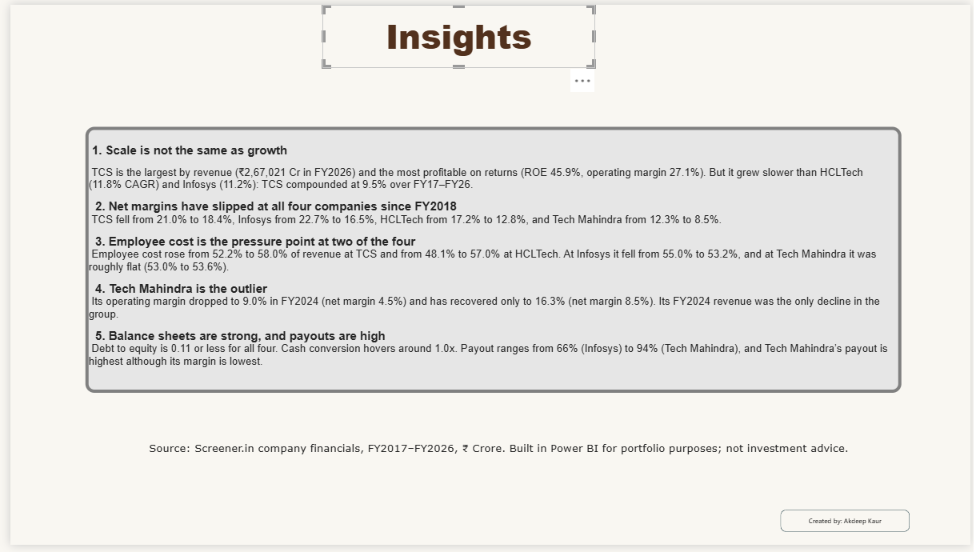

The dashboard page shown, as its layout file describes it:
{"tool":"powerbi","page":{"name":"Insights","canvas":[1920,1080],"ordinal":3},"visuals":[{"type":"actionButton","box":[700,0,545,125],"z":0},{"type":"textbox","box":[150.2,244.3,1632.3,532],"z":1},{"type":"textbox","box":[224,872,1468,58],"z":2},{"type":"shape","box":[1539,1009.8,258.5,43.9],"z":3}]}

Visuals, with their boxes in screenshot pixels (x1, y1, x2, y2), scaled from the page's 1920x1080 canvas onto the 974x552 screenshot:
actionButton: 355:0:632:64
textbox: 76:125:904:397
textbox: 114:446:858:475
shape: 781:516:912:539
